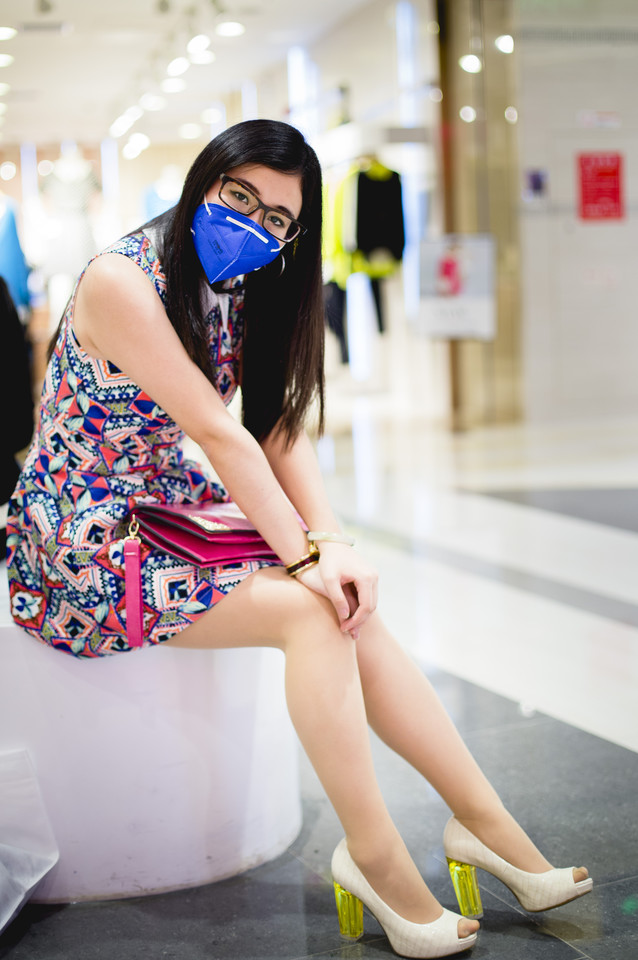face_mask: (201, 163, 300, 285)
